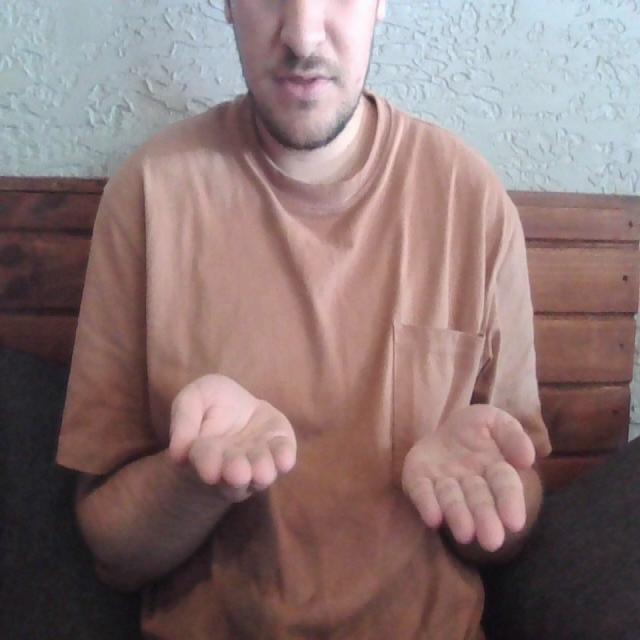Evet: (165, 372, 536, 556)
